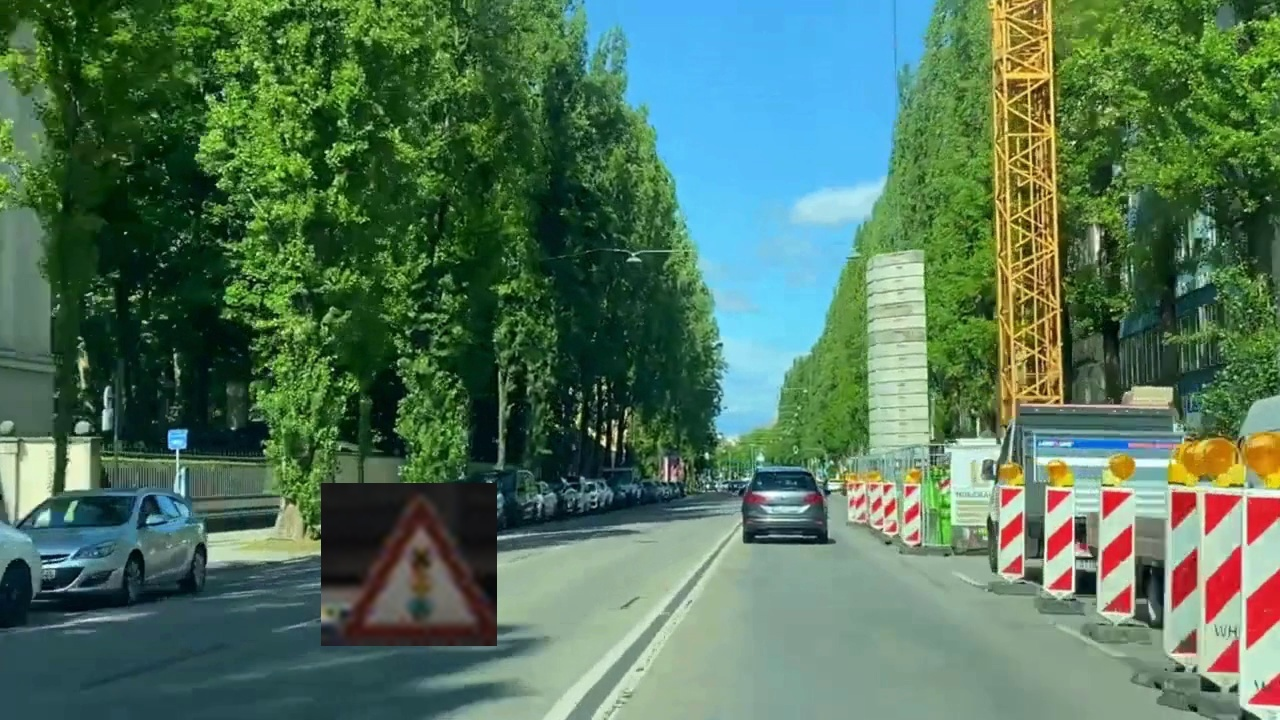Signals: (321, 483, 497, 646)
